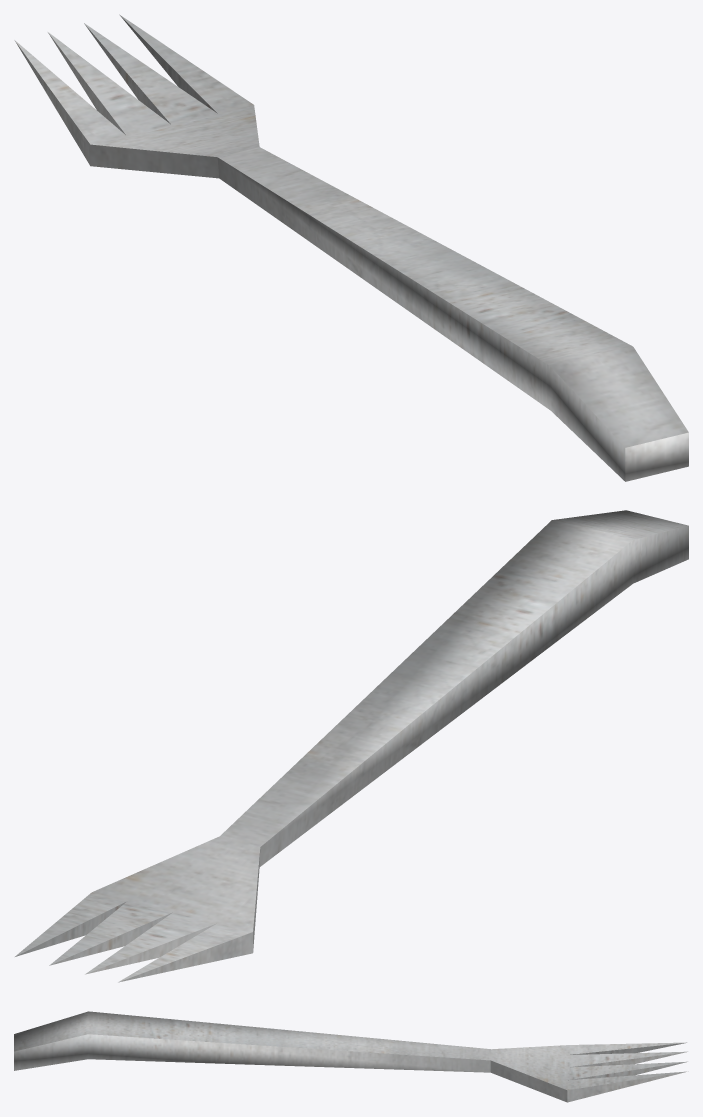
Rendered from M_Home_Garden_Bestek08.fbx.
The picture shows the model from 3 angles, top to bottom: view 1: azimuth 30°, elevation 25°; view 2: azimuth 150°, elevation 25°; view 3: azimuth 270°, elevation 25°; orthographic projection. The views are drawn at different scales.
Visible parts, largest first — view 1: M_Home_Garden_Bestek08; view 2: M_Home_Garden_Bestek08; view 3: M_Home_Garden_Bestek08.
Part boxes in pixels (x1,y1,x2,y2): M_Home_Garden_Bestek08: [14, 14, 688, 481]; M_Home_Garden_Bestek08: [15, 510, 688, 982]; M_Home_Garden_Bestek08: [14, 1011, 688, 1102].
Bounding box in the file's own units: 4.25 × 2.47 × 26.79.
